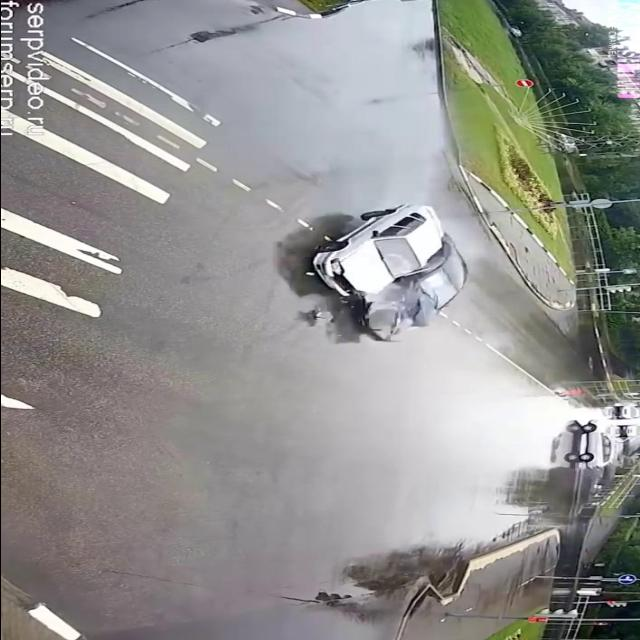accident: (292, 199, 478, 347)
